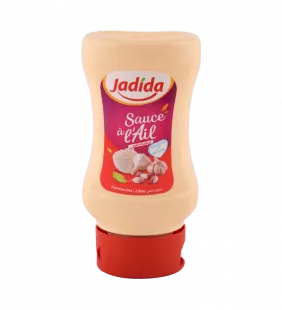Promotion: (75, 20, 212, 284)
